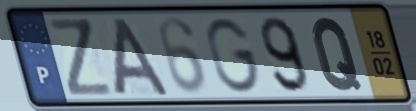6: (156, 14, 210, 98)
9: (257, 14, 312, 95)
A: (112, 15, 173, 97)
G: (203, 15, 264, 95)
Q: (310, 14, 365, 94)
Z: (45, 15, 117, 99)
